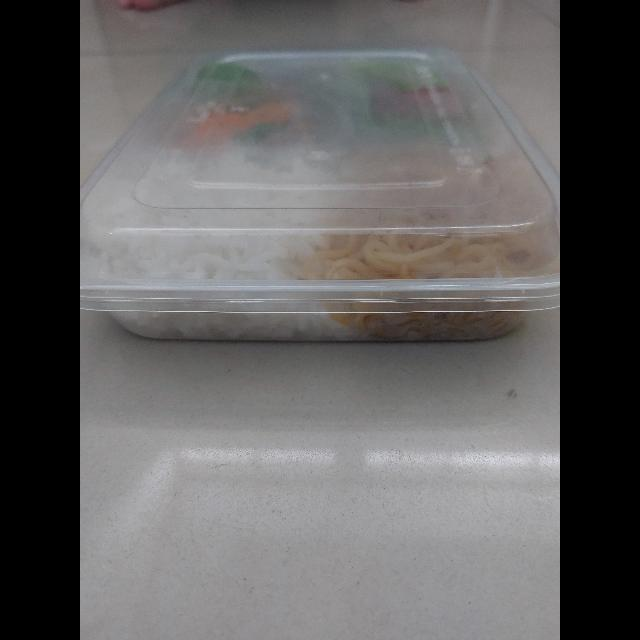bento: (83, 41, 560, 350)
